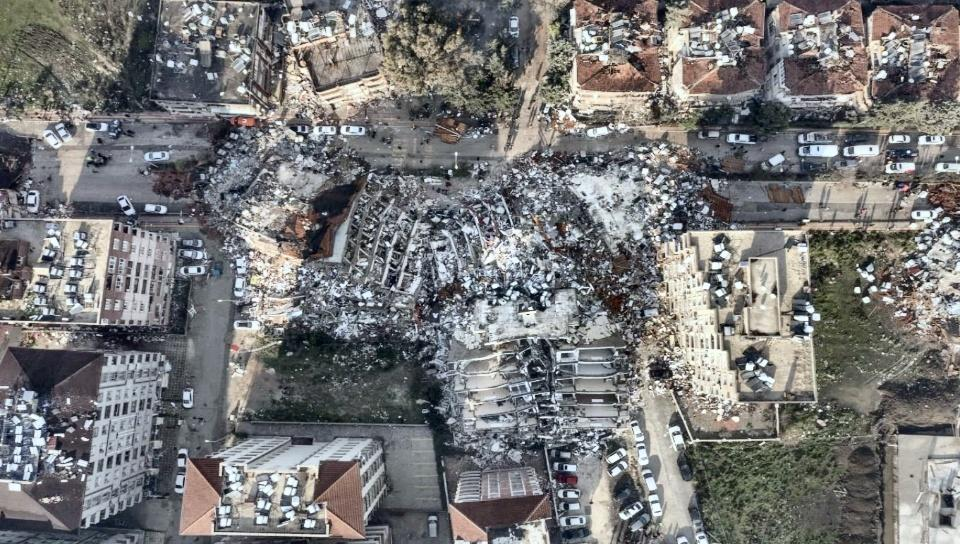kapali: (111, 171, 746, 220), (488, 127, 745, 178), (133, 122, 388, 172)
